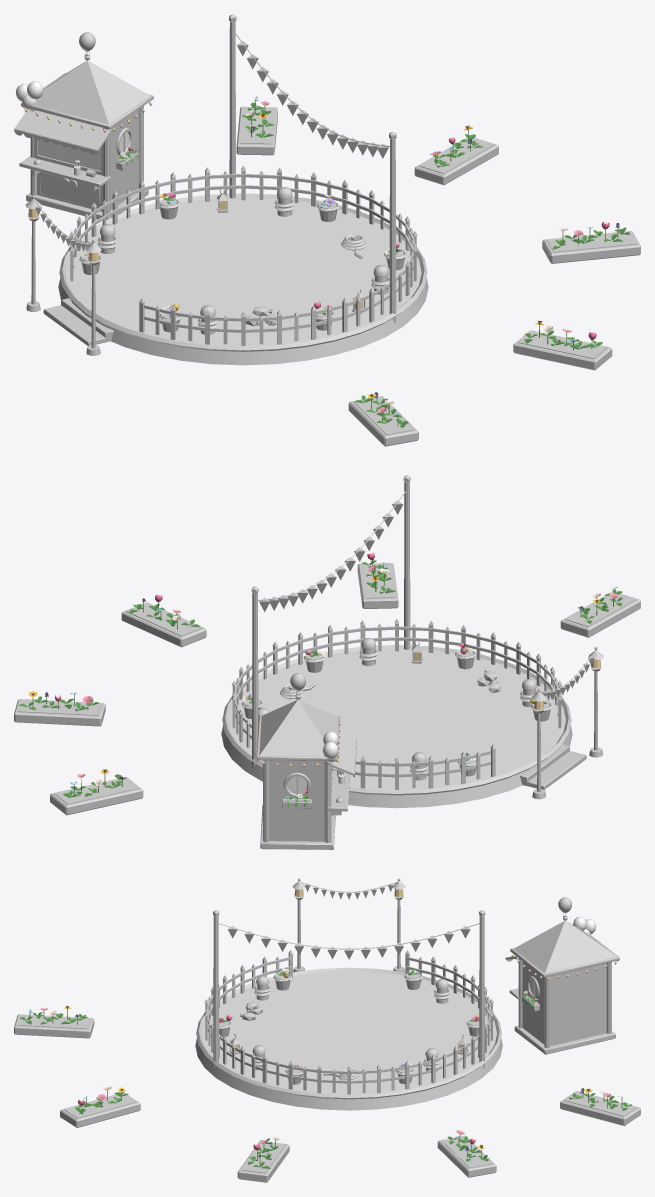
The model's file is zon_balloon.glb.
3 renders of one model, top to bottom at view 1: azimuth 30°, elevation 25°; view 2: azimuth 150°, elevation 25°; view 3: azimuth 270°, elevation 25°, orthographic. The views are drawn at different scales.
Visible parts, largest first — view 1: SM_zon_balloon_kit_balloon_x1_z0, SM_zon_balloon_balloon_floor_x0_z0, SM_zon_balloon_vc_palette_x1_z0, SCREEN_bld_balloon_kiosk_board__0; view 2: SM_zon_balloon_kit_balloon_x1_z0, SM_zon_balloon_balloon_floor_x0_z0, SM_zon_balloon_vc_palette_x1_z0; view 3: SM_zon_balloon_kit_balloon_x1_z0, SM_zon_balloon_balloon_floor_x0_z0, SM_zon_balloon_vc_palette_x1_z0.
Part boxes in pixels (x1=…): SM_zon_balloon_kit_balloon_x1_z0: x1=14, y1=14, x2=640, y2=446; SM_zon_balloon_balloon_floor_x0_z0: x1=65, y1=197, x2=421, y2=346; SM_zon_balloon_vc_palette_x1_z0: x1=80, y1=96, x2=629, y2=427; SCREEN_bld_balloon_kiosk_board__0: x1=37, y1=138, x2=100, y2=170; SM_zon_balloon_kit_balloon_x1_z0: x1=14, y1=475, x2=640, y2=849; SM_zon_balloon_balloon_floor_x0_z0: x1=228, y1=649, x2=565, y2=790; SM_zon_balloon_vc_palette_x1_z0: x1=18, y1=552, x2=622, y2=806; SM_zon_balloon_kit_balloon_x1_z0: x1=14, y1=878, x2=640, y2=1182; SM_zon_balloon_balloon_floor_x0_z0: x1=201, y1=971, x2=496, y2=1094; SM_zon_balloon_vc_palette_x1_z0: x1=20, y1=968, x2=632, y2=1168.
Size of the model in its own units: 12.16 by 4.35 by 15.09.
